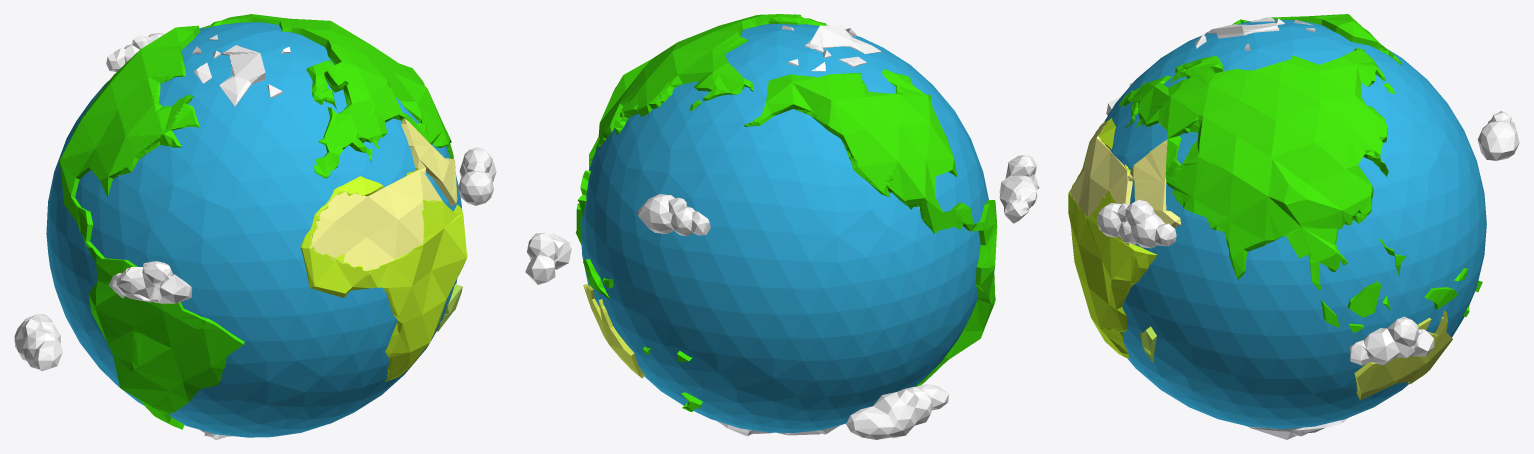
Rendered from earth_low_poly-transformed.glb.
3 views of the same model, side by side, from view 1: azimuth 30°, elevation 25°; view 2: azimuth 150°, elevation 25°; view 3: azimuth 270°, elevation 25° (orthographic).
Visible parts, largest first — view 1: object 12, usa.001_10, usa_9, russia_8, africa_0, africa.001_1, cloud1_13, grend_4, cloud1.004_17, oae_7, cloud1.003_16, cloud1.002_15; view 2: object 12, usa.001_10, russia_8, cloud1.004_17, usa_9, cloud1.002_15, cloud1_13, cloud1.001_14, grend_4, indos_5, aust_3; view 3: object 12, russia_8, africa_0, africa.001_1, aust_3, cloud1.003_16, cloud1.001_14, oae_7, indos_5, cloud1.002_15, usa.001_10, grend_4 (+1 smaller).
Part boxes in pixels (x1,y1,x2,y2): object 12: (46, 22, 462, 437); usa.001_10: (59, 25, 200, 262); usa_9: (88, 256, 244, 429); russia_8: (202, 14, 453, 178); africa_0: (300, 167, 467, 381); africa.001_1: (309, 169, 441, 272); cloud1_13: (108, 261, 192, 303); grend_4: (192, 35, 290, 106); cloud1.004_17: (14, 314, 62, 371); oae_7: (400, 118, 457, 206); cloud1.003_16: (458, 147, 496, 205); cloud1.002_15: (106, 33, 164, 71); object 12: (580, 23, 988, 432); usa.001_10: (744, 69, 984, 234); russia_8: (589, 14, 827, 169); cloud1.004_17: (846, 384, 948, 439); usa_9: (915, 200, 997, 386); cloud1.002_15: (638, 194, 710, 236); cloud1_13: (999, 155, 1039, 223); cloud1.001_14: (525, 232, 571, 284); grend_4: (781, 25, 881, 71); indos_5: (575, 170, 702, 411); aust_3: (583, 284, 644, 378); object 12: (1104, 19, 1486, 429); russia_8: (1119, 48, 1394, 289); africa_0: (1068, 118, 1157, 359); africa.001_1: (1070, 121, 1132, 219); aust_3: (1354, 310, 1452, 400); cloud1.003_16: (1097, 199, 1176, 248); cloud1.001_14: (1350, 316, 1434, 365); oae_7: (1128, 139, 1180, 227); indos_5: (1320, 238, 1482, 332); cloud1.002_15: (1477, 111, 1519, 160); usa.001_10: (1232, 14, 1401, 64); grend_4: (1195, 17, 1315, 50).
Size of the model in its own units: 18.8 by 17.96 by 18.66.
